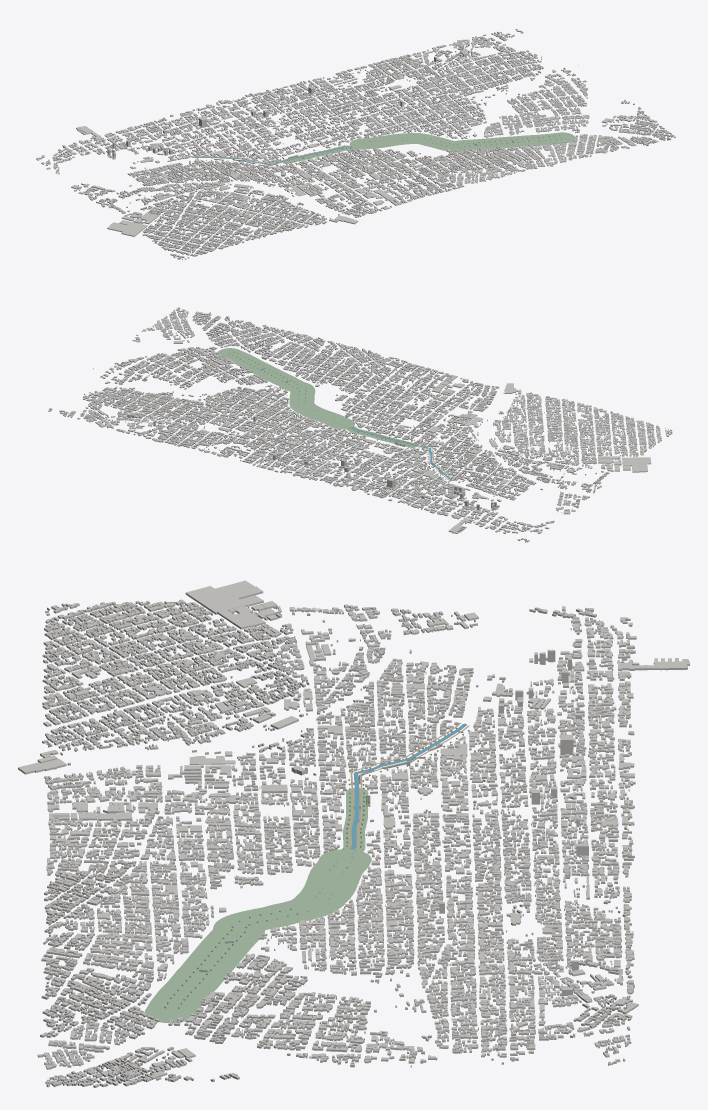
Rendered from centro-gregorio.glb.
The picture shows the model from 3 angles, top to bottom: view 1: azimuth 30°, elevation 25°; view 2: azimuth 150°, elevation 25°; view 3: azimuth 270°, elevation 25°; orthographic projection. The views are drawn at different scales.
Parts seen in each view (by area): view 1: world; view 2: world; view 3: world.
Part boxes in pixels (left/top/right/bottom): world: left=36, top=29, right=675, bottom=259; world: left=48, top=307, right=672, bottom=542; world: left=18, top=580, right=689, bottom=1087.
Bounding box in the file's own units: 4195 × 139 × 2302.
